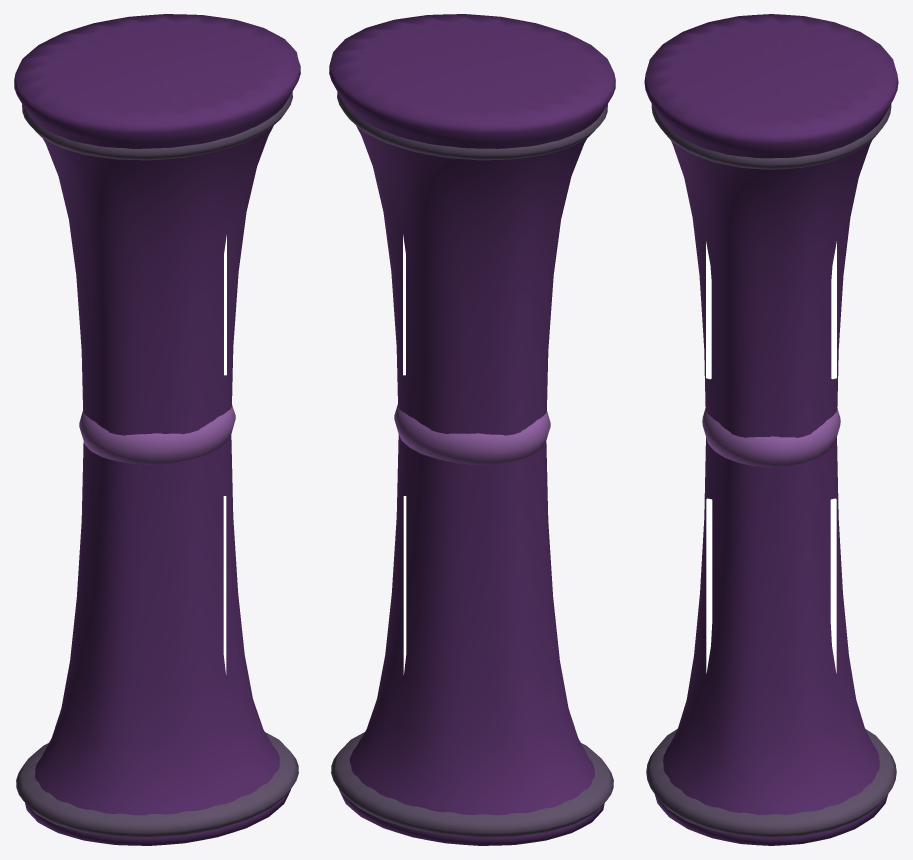
File: SM_SB_Kit_KeelShell_Pillar.fbx
3 renders of one model, left to right at view 1: azimuth 30°, elevation 25°; view 2: azimuth 150°, elevation 25°; view 3: azimuth 270°, elevation 25°, orthographic.
Visible parts, largest first — view 1: SM_SB_Kit_KeelShell_Pillar; view 2: SM_SB_Kit_KeelShell_Pillar; view 3: SM_SB_Kit_KeelShell_Pillar.
Boxes of the visible parts, left/top/right/bottom form: SM_SB_Kit_KeelShell_Pillar: left=14, top=14, right=300, bottom=845; SM_SB_Kit_KeelShell_Pillar: left=329, top=14, right=615, bottom=845; SM_SB_Kit_KeelShell_Pillar: left=644, top=14, right=898, bottom=845.
Bounding box in the file's own units: 218 × 190 × 599.
